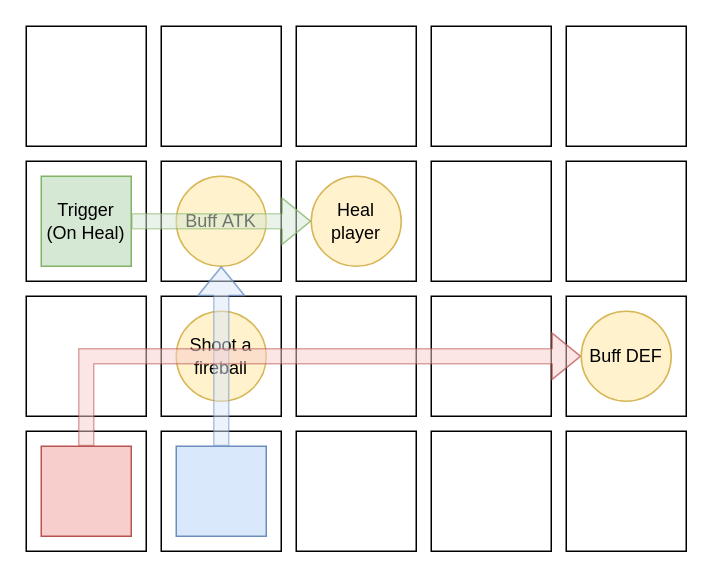
This 713x578 diagram has some shape labels left out. Each missing label, with the box of its shape:
Trigger (Skill 1): (175, 445, 266, 536)
Trigger (Skill 2): (40, 445, 131, 536)
